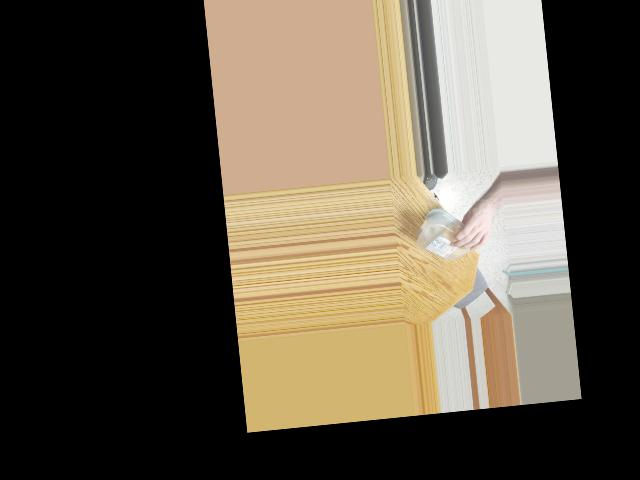cheese: (413, 207, 484, 264)
